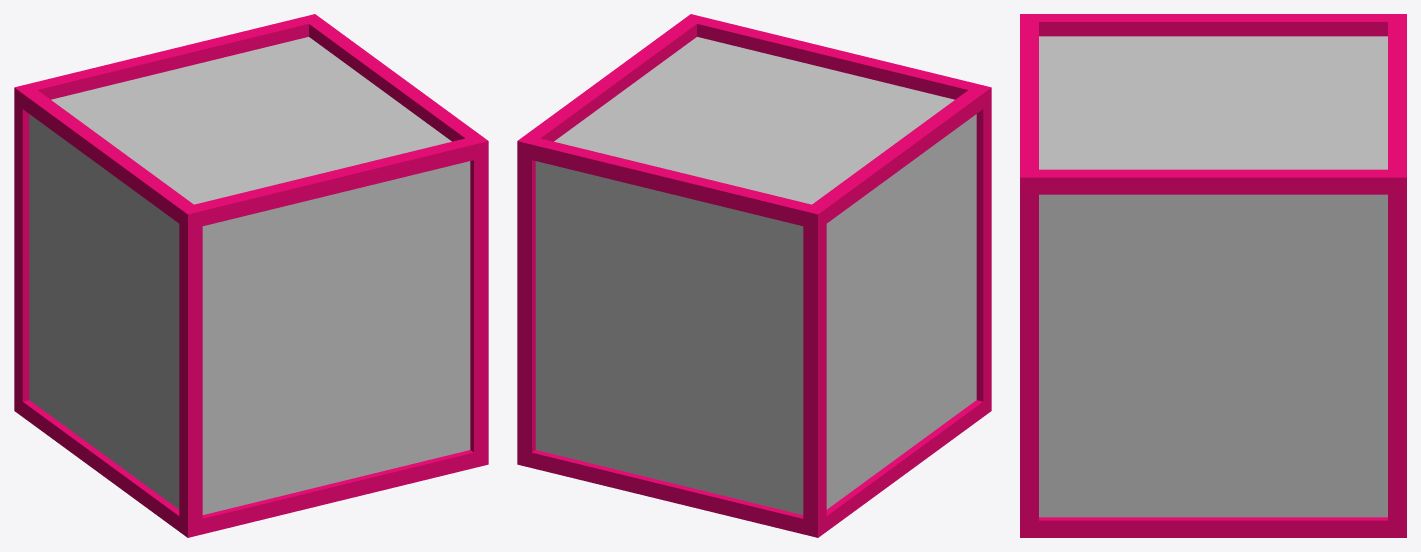
The model's file is CaixaMisteriosa.fbx.
The picture shows the model from 3 angles, left to right: view 1: azimuth 30°, elevation 25°; view 2: azimuth 150°, elevation 25°; view 3: azimuth 270°, elevation 25°; orthographic projection. The views are drawn at different scales.
Parts seen in each view (by area): view 1: CaixaMisteriosa; view 2: CaixaMisteriosa; view 3: CaixaMisteriosa.
Boxes of the visible parts, box(x1,y1,x2,y2) form: CaixaMisteriosa: box(14, 14, 488, 537); CaixaMisteriosa: box(517, 14, 991, 537); CaixaMisteriosa: box(1020, 14, 1406, 537).
Size of the model in its own units: 90.01 by 92.46 by 89.94.
